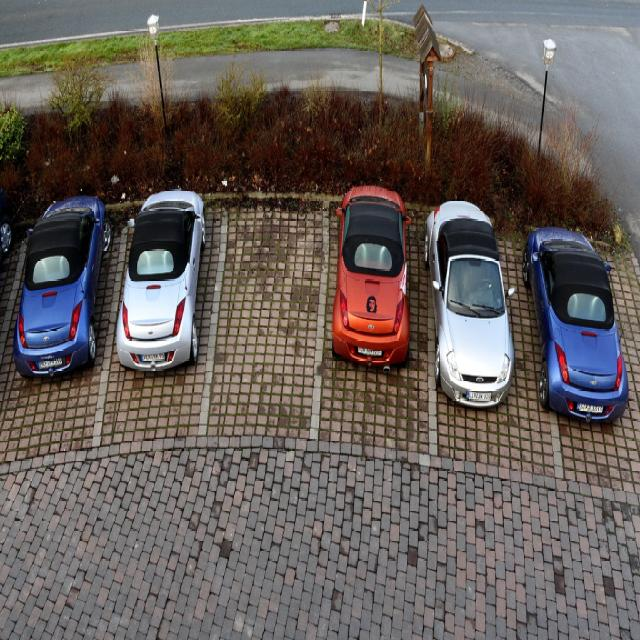car: (524, 227, 627, 426), (424, 197, 516, 411), (11, 190, 110, 377), (113, 187, 206, 366), (328, 184, 408, 370)
